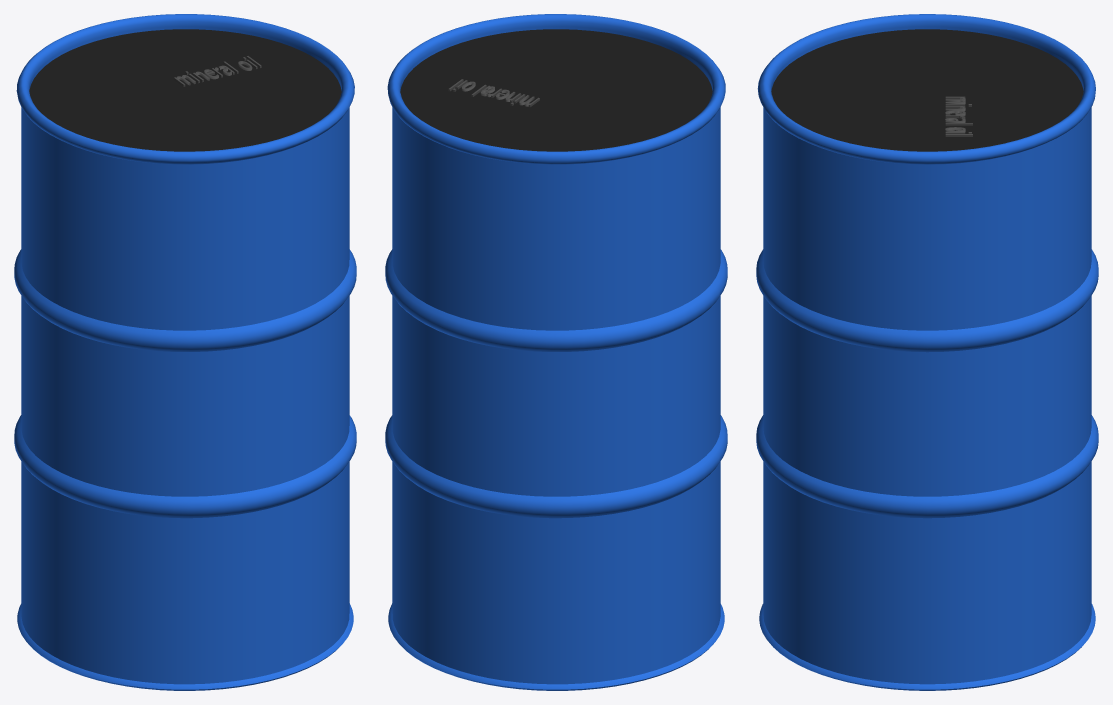
3 renders of one model, left to right at view 1: azimuth 30°, elevation 25°; view 2: azimuth 150°, elevation 25°; view 3: azimuth 270°, elevation 25°, orthographic.
Parts seen in each view (by area): view 1: Cylinder, mineral_oil1; view 2: Cylinder, mineral_oil1; view 3: Cylinder, mineral_oil1.
Boxes of the visible parts, x1,y1,x2,y2 form: Cylinder: (14, 14, 356, 690); mineral_oil1: (174, 56, 261, 86); Cylinder: (385, 14, 727, 690); mineral_oil1: (448, 79, 539, 107); Cylinder: (756, 14, 1098, 690); mineral_oil1: (945, 96, 972, 136).
Size of the model in its own units: 0.5898 by 0.5898 by 1.02.
